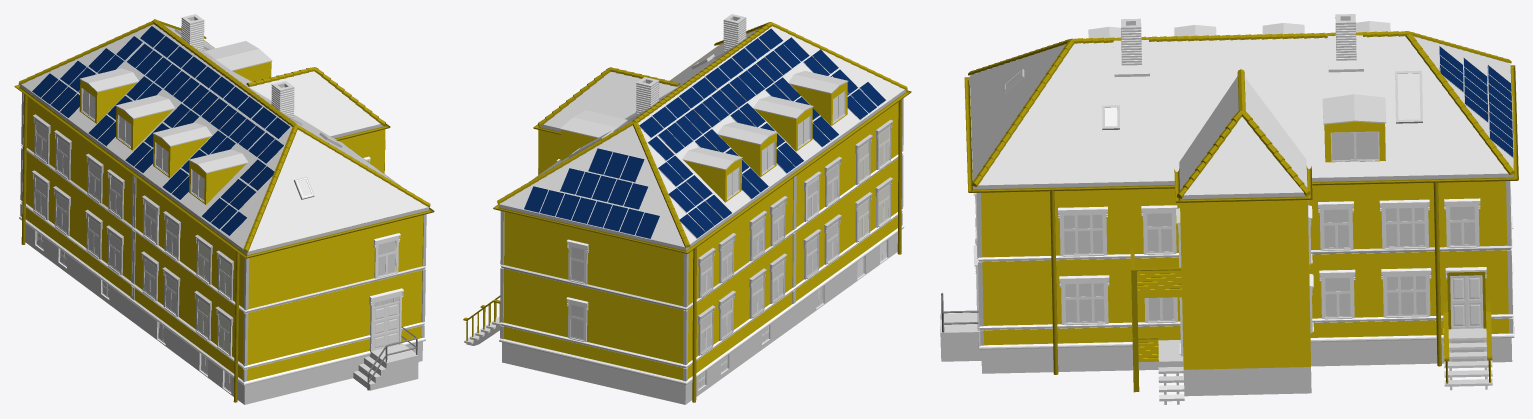
File: house_panel_2_1010.glb
3 renders of one model, left to right at view 1: azimuth 30°, elevation 25°; view 2: azimuth 150°, elevation 25°; view 3: azimuth 270°, elevation 25°, orthographic. The views are drawn at different scales.
Parts seen in each view (by area): view 1: SketchUp.874, SketchUp.871, SketchUp.865, SketchUp.002, SketchUp.511, SketchUp.484, SketchUp.001, SketchUp.872, SketchUp.015, SketchUp.057, SketchUp.052, SketchUp.734 (+19 smaller); view 2: SketchUp.874, SketchUp.871, SketchUp.002, SketchUp.865, SketchUp.511, SketchUp.484, SketchUp.001, SketchUp.872, SketchUp.057, SketchUp.052, SketchUp.734, SketchUp.519 (+30 smaller); view 3: SketchUp.871, SketchUp.874, SketchUp.868, SketchUp.865, SketchUp.002, SketchUp, SketchUp.511, SketchUp.872, SketchUp.734, SketchUp.057, SketchUp.484, SketchUp.019 (+30 smaller).
Boxes of the visible parts, x1,y1,x2,y2 form: SketchUp.874: [25, 97, 423, 380]; SketchUp.871: [21, 24, 428, 251]; SketchUp.865: [249, 71, 380, 136]; SketchUp.002: [25, 224, 422, 404]; SketchUp.511: [14, 40, 434, 258]; SketchUp.484: [19, 216, 425, 385]; SketchUp.001: [109, 286, 199, 370]; SketchUp.872: [20, 84, 428, 255]; SketchUp.015: [353, 351, 418, 390]; SketchUp.057: [20, 200, 425, 369]; SketchUp.052: [21, 144, 426, 313]; SketchUp.734: [205, 41, 272, 71]; SketchUp.874: [503, 102, 898, 380]; SketchUp.871: [499, 26, 904, 247]; SketchUp.002: [502, 232, 897, 404]; SketchUp.865: [544, 72, 678, 128]; SketchUp.511: [493, 48, 911, 253]; SketchUp.484: [499, 225, 904, 384]; SketchUp.001: [770, 262, 857, 343]; SketchUp.872: [498, 89, 905, 250]; SketchUp.057: [499, 209, 903, 368]; SketchUp.052: [500, 153, 902, 310]; SketchUp.734: [560, 110, 627, 138]; SketchUp.519: [755, 107, 812, 151]; SketchUp.871: [969, 36, 1513, 185]; SketchUp.874: [981, 109, 1508, 345]; SketchUp.868: [1180, 200, 1310, 369]; SketchUp.865: [1179, 76, 1307, 195]; SketchUp.002: [981, 338, 1512, 373]; SketchUp: [1183, 366, 1311, 396]; SketchUp.511: [964, 65, 1518, 192]; SketchUp.872: [969, 77, 1513, 189]; SketchUp.734: [1322, 94, 1386, 124]; SketchUp.057: [975, 218, 1513, 330]; SketchUp.484: [975, 240, 1514, 349]; SketchUp.019: [1137, 270, 1181, 298].
Size of the model in its own units: 13.74 by 13.47 by 22.92.
